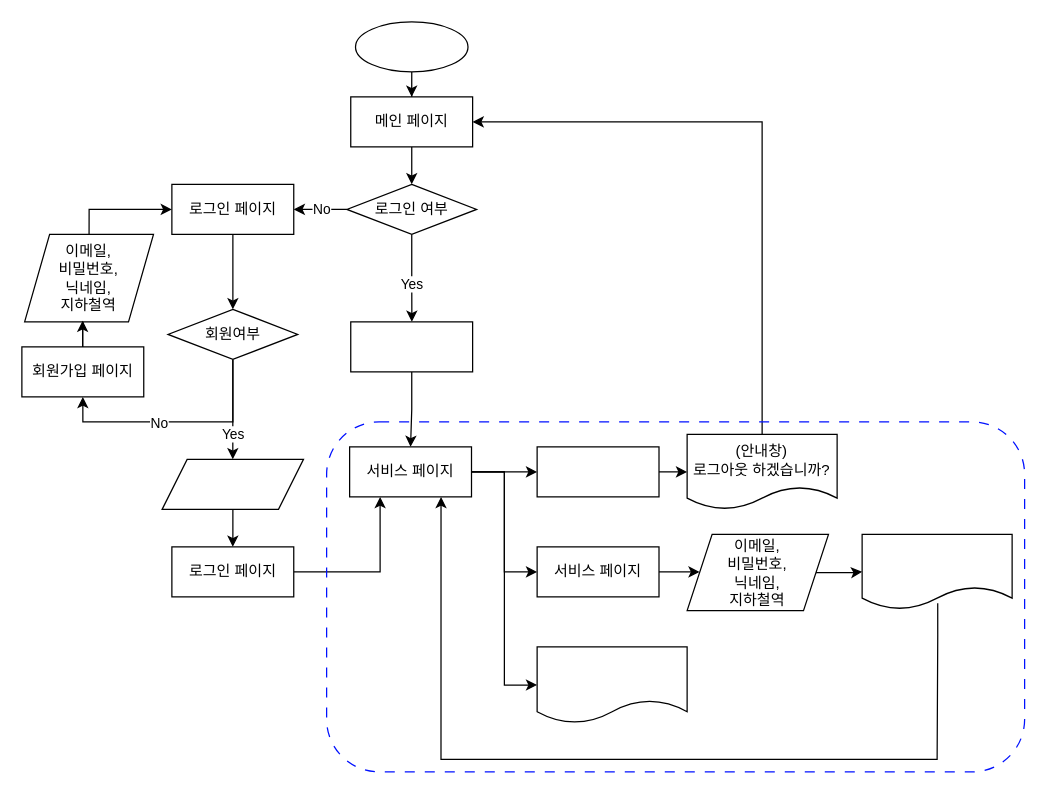
Image size: 1048x794. Some labels were removed from this diagram. Each missing label, with the box of its shape:
(안내창) 저장하시겠습니까?: (861, 533, 1012, 609)
로그아웃 버튼: (536, 446, 659, 497)
메인 페이지 시작하기 버튼: (350, 321, 473, 372)
서비스 접속: (354, 21, 468, 72)
실시간 미세먼지 정보, 예측 미세먼지 정보: (536, 646, 687, 723)
이메일, 비밀번호: (161, 458, 304, 509)
